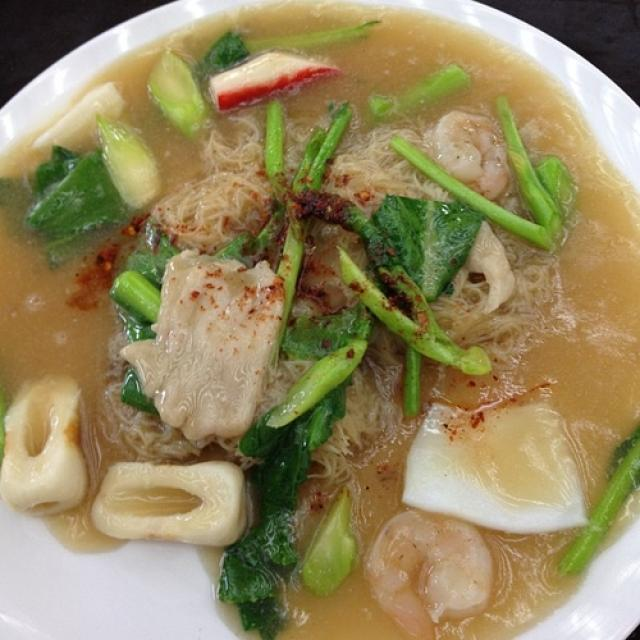面条主食: (12, 13, 616, 618)
